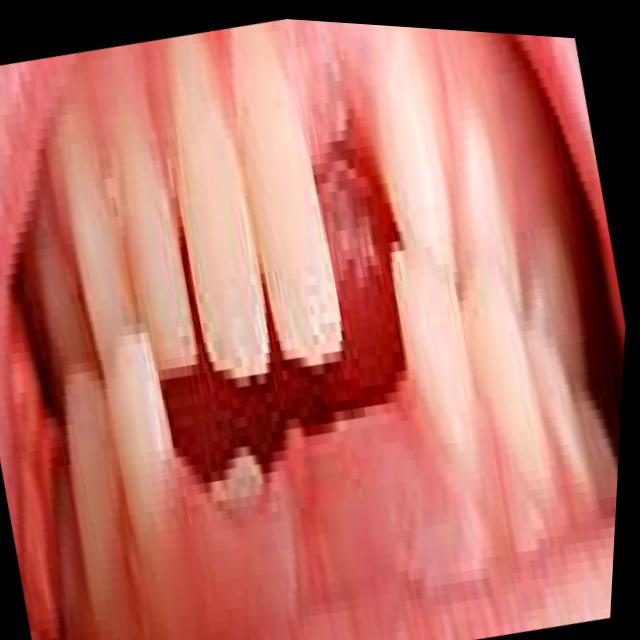hypodontia: (163, 293, 406, 495), (312, 99, 404, 409)
